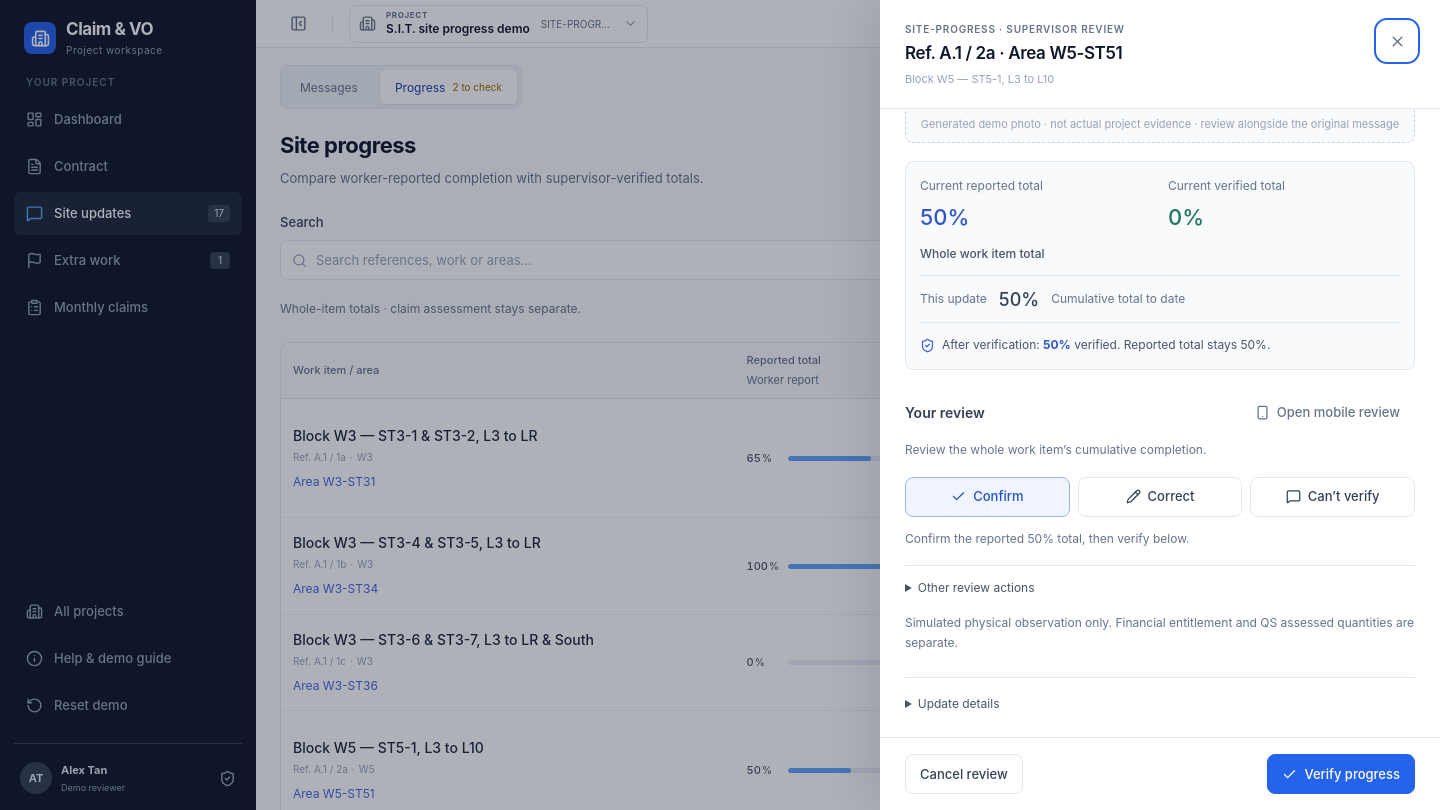
site progress separates worker reports from supervisor verification › requires a reason for Can’t verify and retains source evidence, progress and saved claims
(page scrolled)
Click the button "Can’t verify".
click(1333, 496)  # box x1=1250 y1=476 x2=1415 y2=516
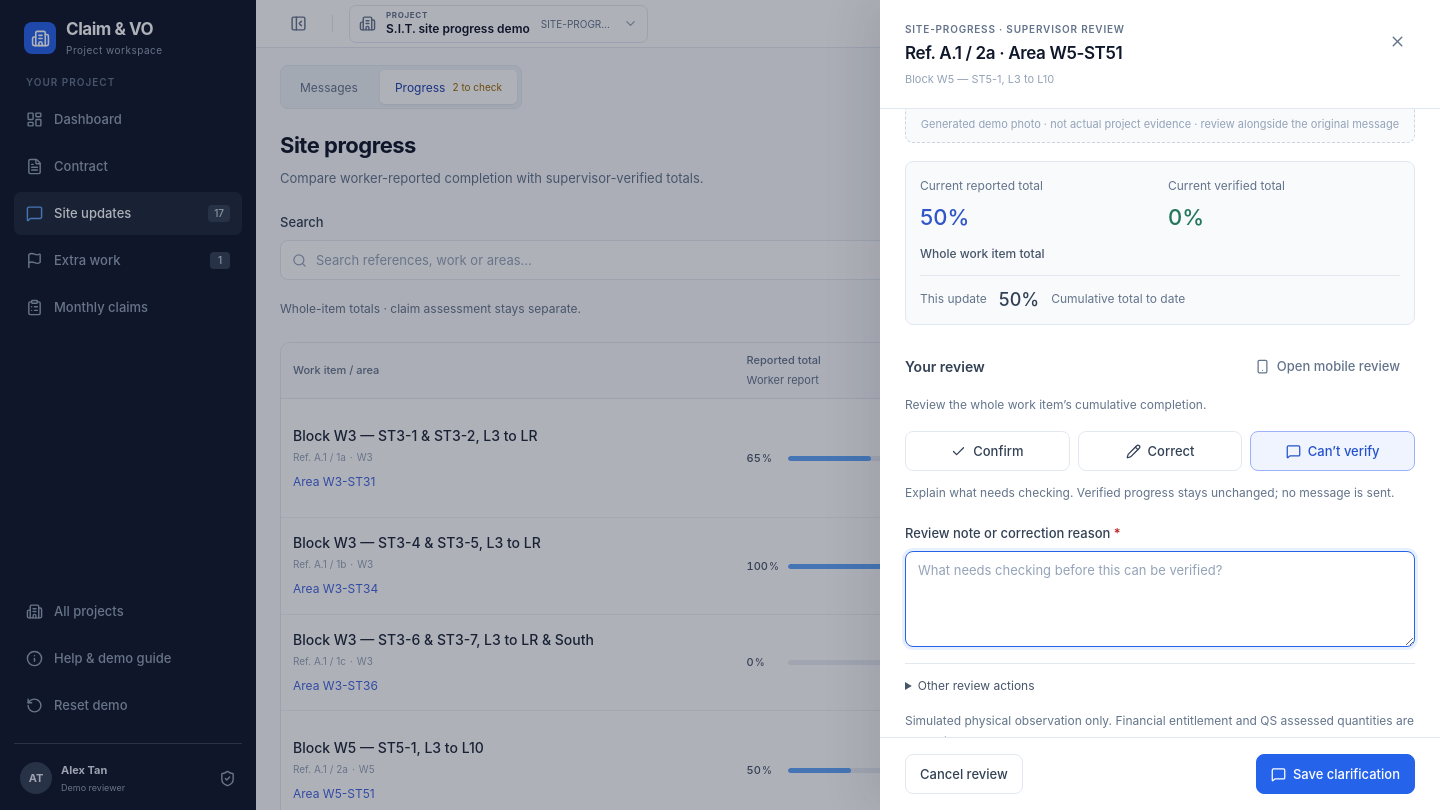
Expected: the button "Verify progress" is gone
Click the button "Save clarification".
click(1335, 774)  # box x1=1256 y1=754 x2=1415 y2=794
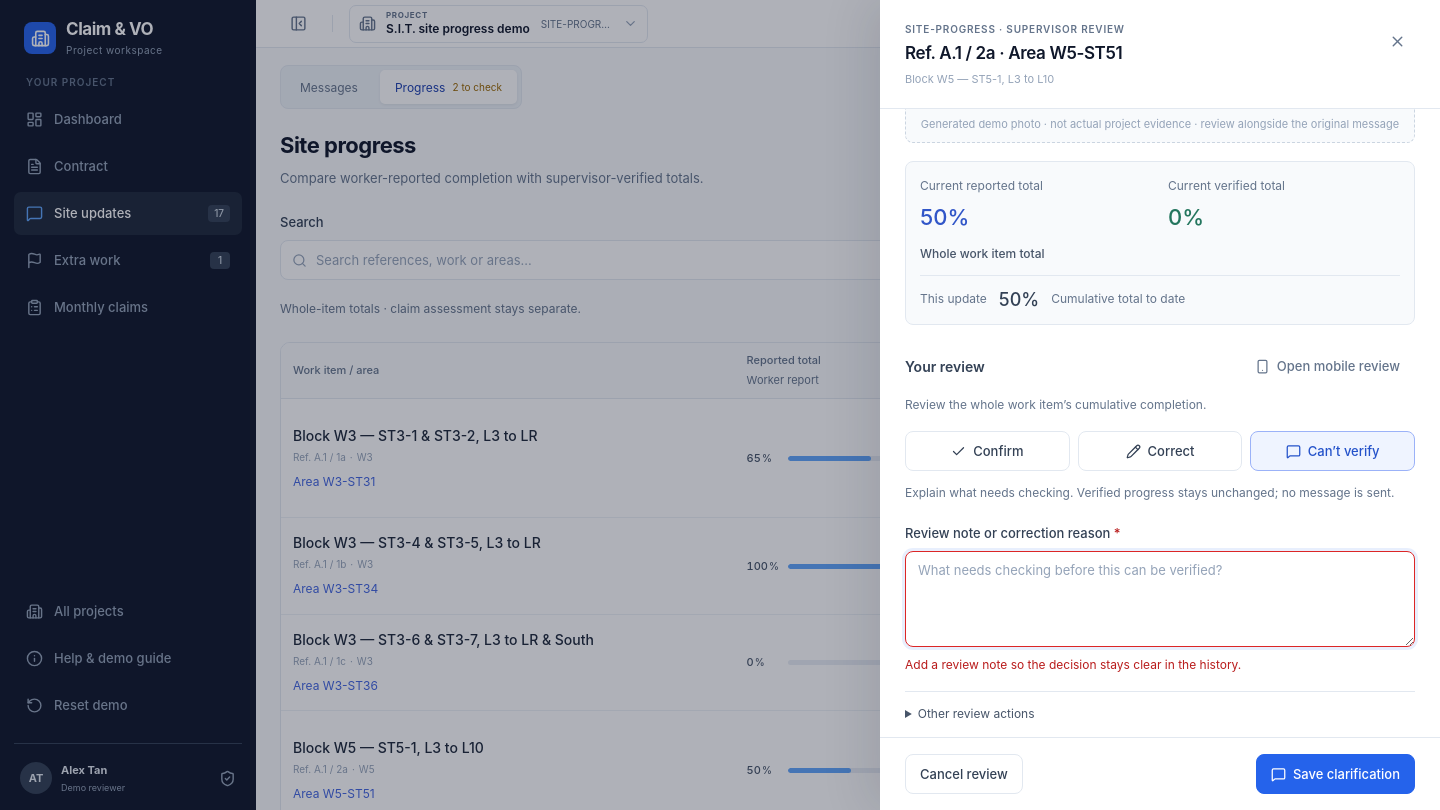
Type "Need a wider photo of the stair bay and its cumulative total." into the text box labelled "Review note or correction reason".
click(1160, 599); type("Need a wider photo of the stair bay and its cumulative total.")  # box x1=905 y1=551 x2=1415 y2=647
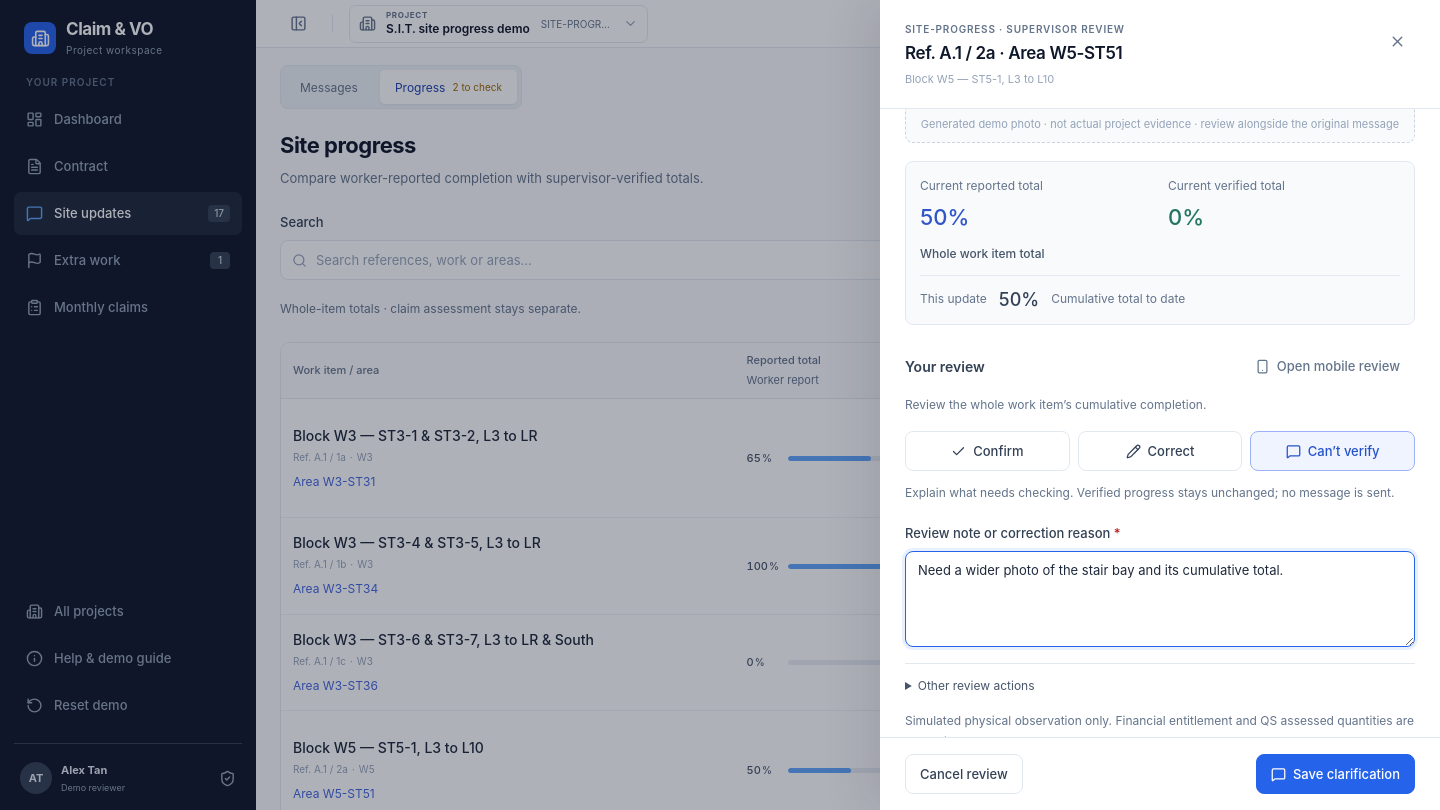
Click the button "Save clarification".
click(1335, 774)  # box x1=1256 y1=754 x2=1415 y2=794
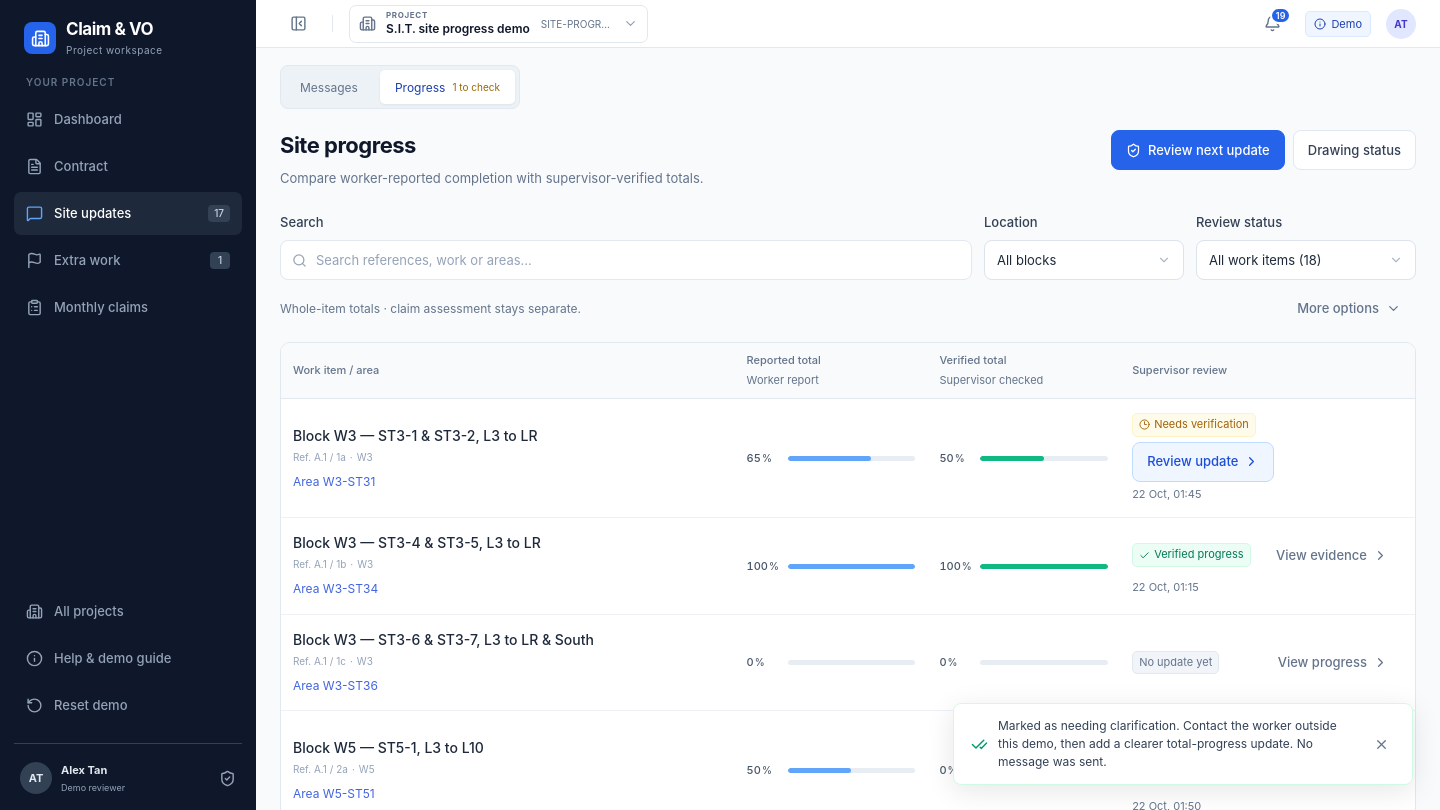
Expected: the dialog is gone
